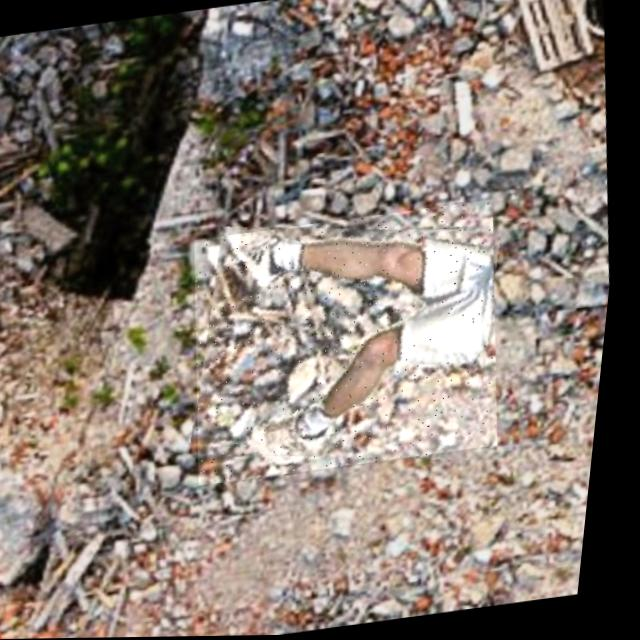Person in Rubble: (177, 201, 526, 486)
